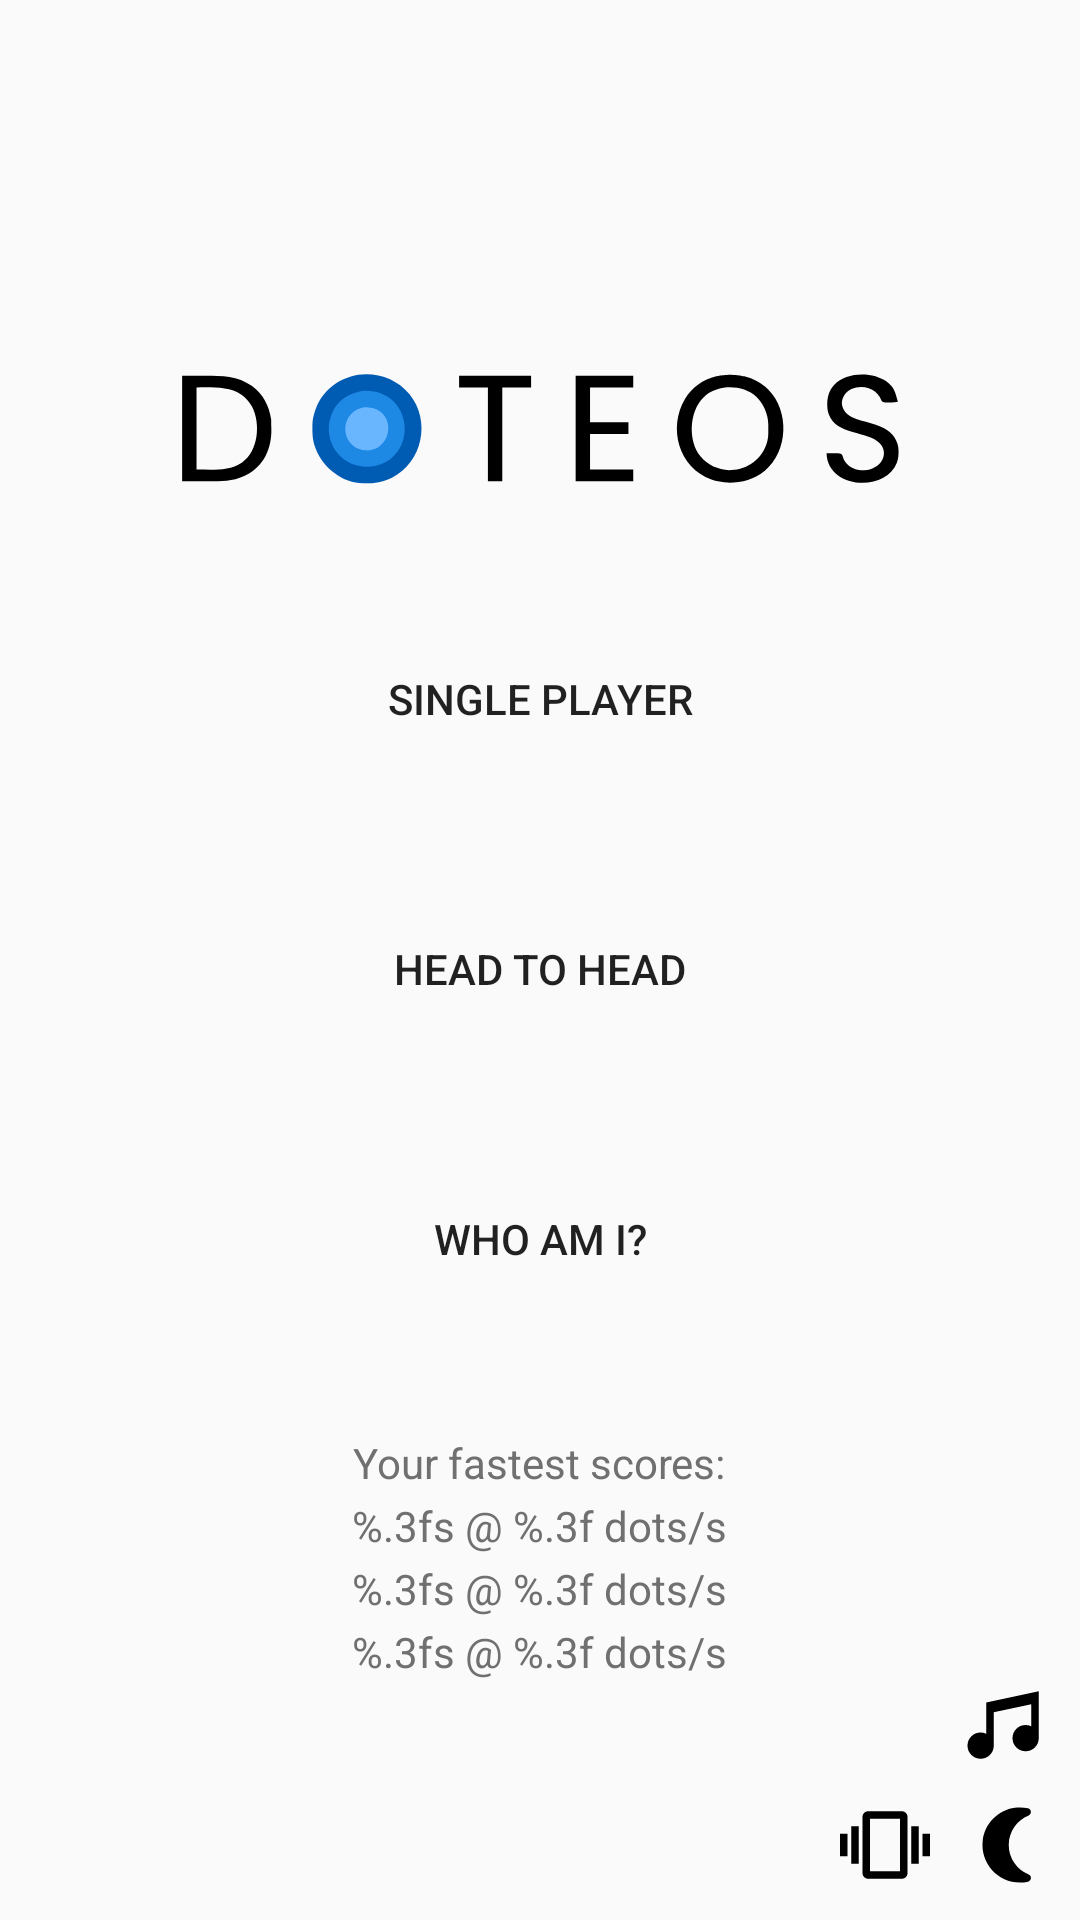

Point at icon controls on the screen. Image size 1080 × 1920, points as [x,y].
Night mode: [1006,1845]
Vibrate: [885,1845]
Volume: [1003,1725]
